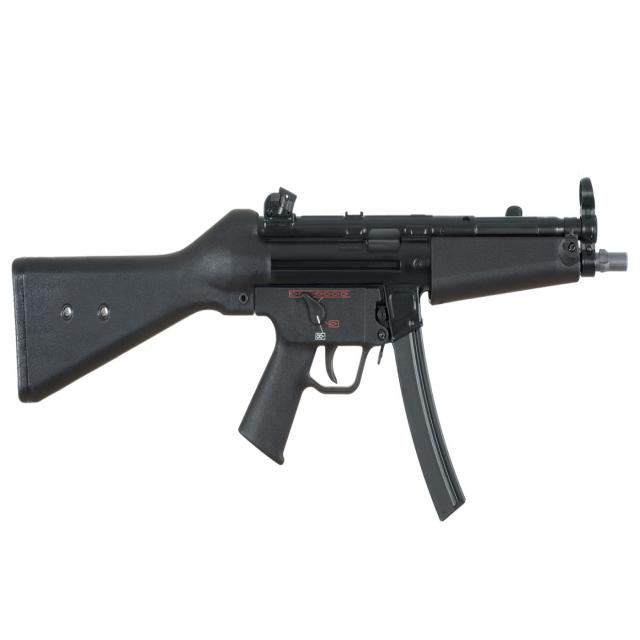SMG: (10, 179, 631, 523)
